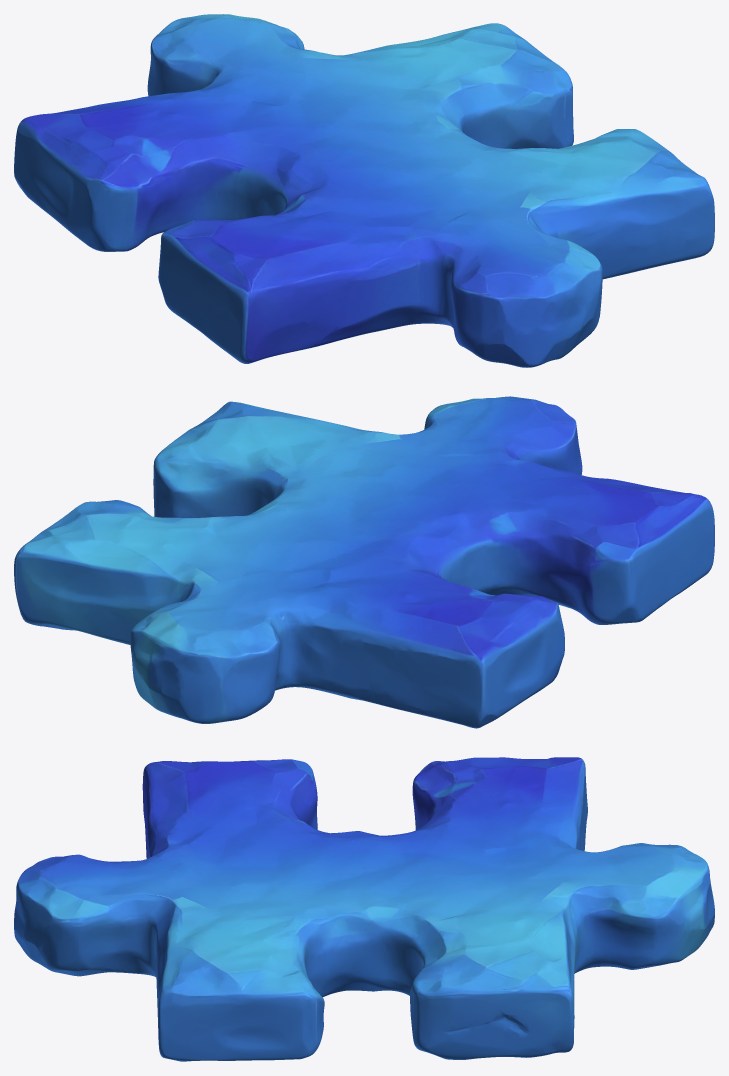
Rendered from puzzle2.glb.
3 renders of one model, top to bottom at view 1: azimuth 30°, elevation 25°; view 2: azimuth 150°, elevation 25°; view 3: azimuth 270°, elevation 25°, orthographic. The views are drawn at different scales.
Parts seen in each view (by area): view 1: tripo_node_2535c471-c239-403a-97c2-7189131415c6; view 2: tripo_node_2535c471-c239-403a-97c2-7189131415c6; view 3: tripo_node_2535c471-c239-403a-97c2-7189131415c6.
Part boxes in pixels (x1=…): tripo_node_2535c471-c239-403a-97c2-7189131415c6: x1=14, y1=14, x2=714, y2=367; tripo_node_2535c471-c239-403a-97c2-7189131415c6: x1=14, y1=396, x2=714, y2=728; tripo_node_2535c471-c239-403a-97c2-7189131415c6: x1=14, y1=757, x2=714, y2=1061.
Size of the model in its own units: 0.7439 by 0.1533 by 0.9789.
Materials: 1 (1 with a texture image).
